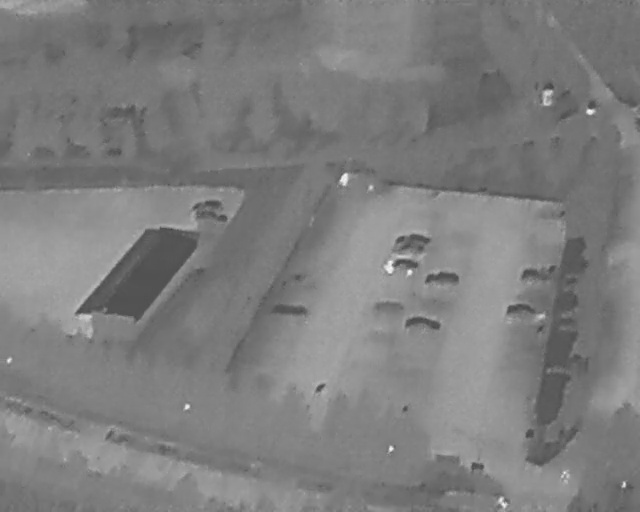Car: (503, 304, 546, 323), (404, 316, 441, 333), (520, 267, 554, 285), (394, 234, 431, 250), (386, 259, 419, 275), (424, 272, 459, 287), (390, 245, 427, 259), (191, 198, 223, 213), (195, 210, 228, 224)
